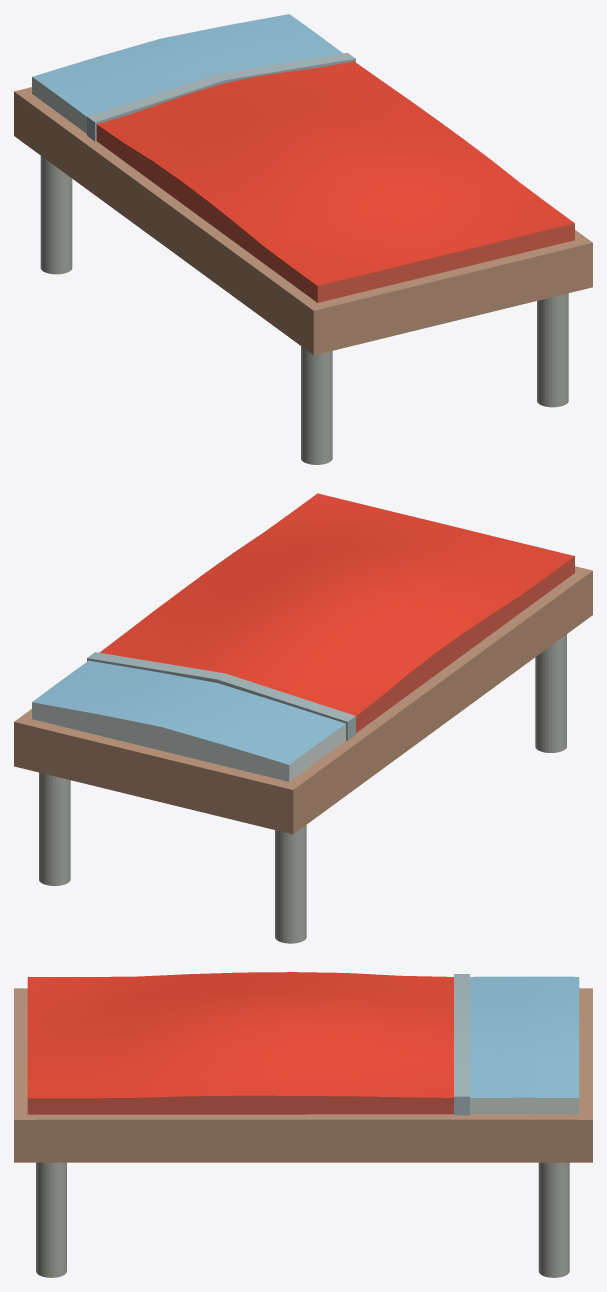
File: Bed.fbx
3 renders of one model, top to bottom at view 1: azimuth 30°, elevation 25°; view 2: azimuth 150°, elevation 25°; view 3: azimuth 270°, elevation 25°, orthographic. The views are drawn at different scales.
Parts seen in each view (by area): view 1: Bed.AppliedTransform; view 2: Bed.AppliedTransform; view 3: Bed.AppliedTransform.
Boxes of the visible parts, x1=… form: Bed.AppliedTransform: x1=14, y1=14, x2=592, y2=464; Bed.AppliedTransform: x1=14, y1=493, x2=592, y2=943; Bed.AppliedTransform: x1=14, y1=972, x2=592, y2=1277.
Size of the model in its own units: 554 by 392 by 1031.
